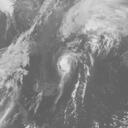cyclone: (56, 51, 75, 76)
